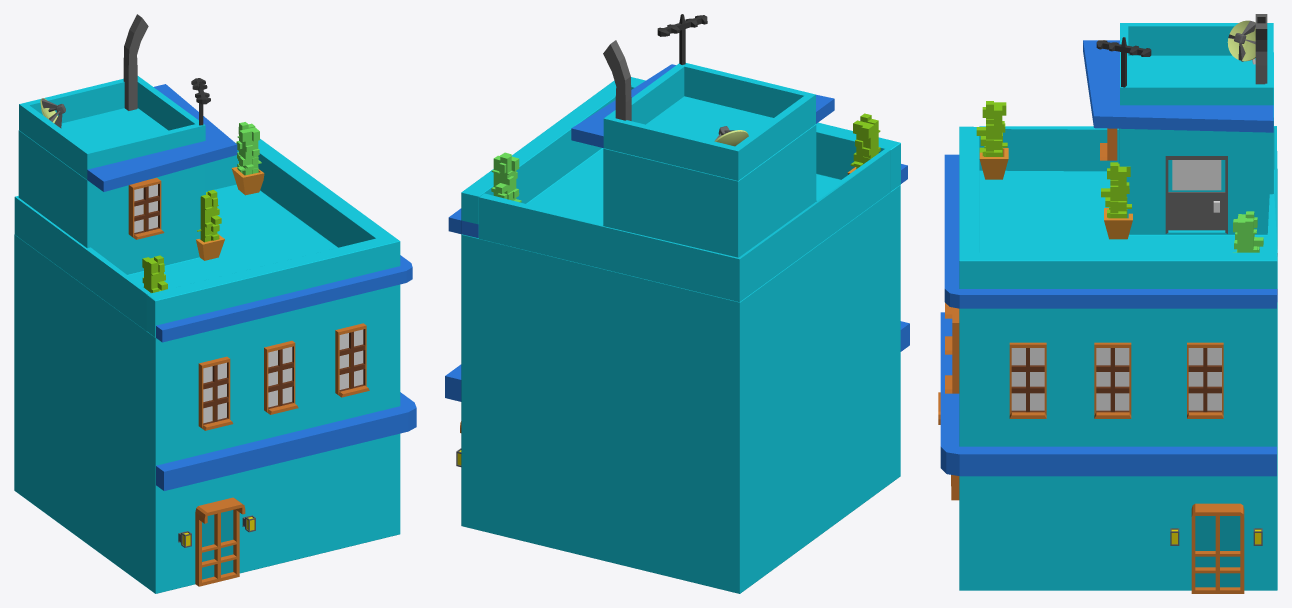
The model's file is mono_apartman.fbx.
3 renders of one model, left to right at view 1: azimuth 30°, elevation 25°; view 2: azimuth 150°, elevation 25°; view 3: azimuth 270°, elevation 25°, orthographic. The views are drawn at different scales.
Visible parts, largest first — view 1: Cube, Cube.027, Cube.026, Cube.028, Cube.029, Cube.034, Cube.038, Cube.036, Cube.035, Cube.037; view 2: Cube, Cube.035, Cube.037, Cube.038, Cube.039; view 3: Cube, Cube.033, Cube.030, Cube.031, Cube.032, Cube.004, Cube.037, Cube.036, Cube.038, Cube.035, Circle, Cube.029 (+2 smaller).
Boxes of the visible parts, x1,y1,x2,y2 form: Cube: [14, 76, 416, 593]; Cube.027: [195, 497, 245, 586]; Cube.026: [198, 356, 233, 430]; Cube.028: [264, 340, 298, 414]; Cube.029: [335, 323, 369, 397]; Cube.034: [128, 177, 164, 239]; Cube.038: [231, 122, 264, 195]; Cube.036: [196, 189, 224, 260]; Cube.035: [123, 14, 148, 110]; Cube.037: [142, 255, 167, 293]; Cube: [445, 63, 909, 593]; Cube.035: [603, 40, 631, 120]; Cube.037: [847, 113, 880, 174]; Cube.038: [491, 152, 521, 202]; Cube.039: [657, 14, 707, 64]; Cube: [940, 23, 1277, 590]; Cube.033: [1191, 503, 1244, 593]; Cube.030: [1009, 342, 1046, 418]; Cube.031: [1094, 342, 1131, 418]; Cube.032: [1187, 342, 1223, 418]; Cube.004: [1168, 192, 1225, 230]; Cube.037: [976, 101, 1008, 179]; Cube.036: [1101, 162, 1132, 239]; Cube.038: [1233, 211, 1263, 252]; Cube.035: [1255, 14, 1267, 84]; Circle: [1227, 20, 1255, 61]; Cube.029: [945, 307, 959, 393].
Bounding box in the file's own units: 56.52 × 93.33 × 56.5.
